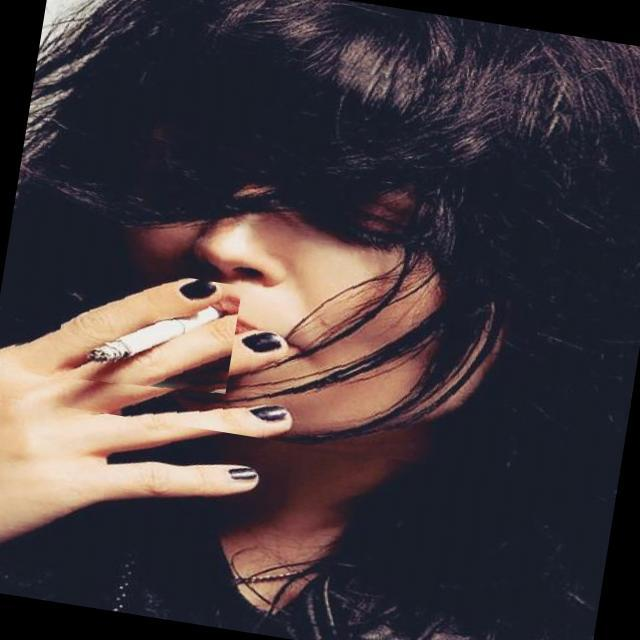cigarette: (52, 259, 242, 404)
